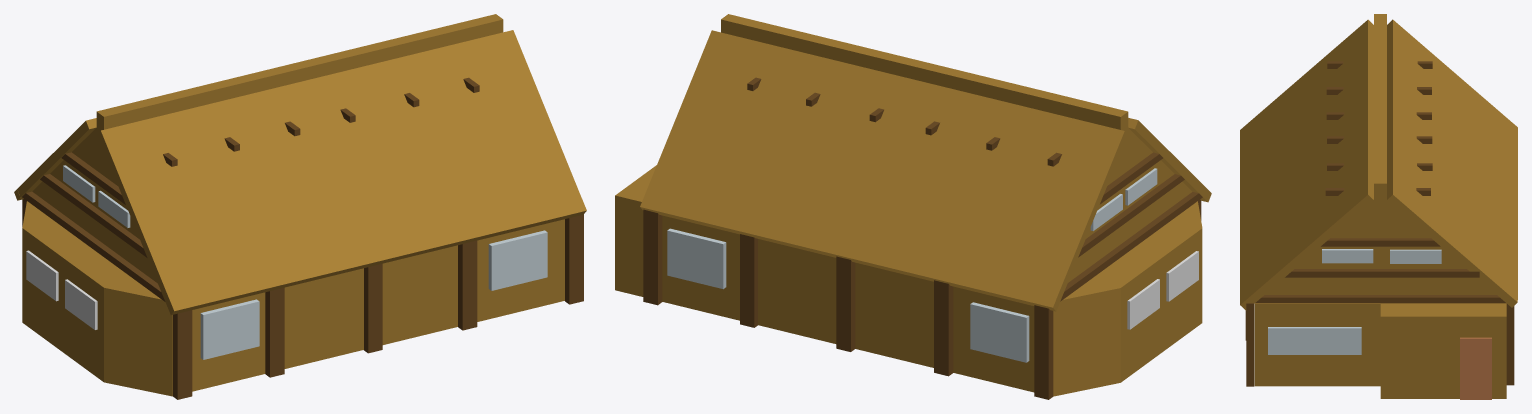
File: casa1.fbx
3 renders of one model, left to right at view 1: azimuth 30°, elevation 25°; view 2: azimuth 150°, elevation 25°; view 3: azimuth 270°, elevation 25°, orthographic. The views are drawn at different scales.
Parts seen in each view (by area): view 1: Cube, Cube.010, Cube.009, pilar1, Pilar3.003, Pilar3.001, Pilar3, Pilar3.004, Pilar3.002, pilar1.005, Cube.002, Cube.001 (+3 smaller); view 2: Cube, Cube.011, Cube.013, pilar1, Pilar3.008, Pilar3.005, Pilar3.007, Pilar3.009, Pilar3.006, pilar1.005, Cube.001, Cube.002 (+3 smaller); view 3: Cube, Cube.003, pilar1.001, Cube.004, pilar1.002, pilar1.003, Cube.006, Cube.005, Pilar3.004, Pilar3.005.
Part boxes in pixels (box(x1,y1,x2,y2)): Cube: box(14, 14, 586, 396); Cube.010: box(488, 230, 547, 290); Cube.009: box(200, 299, 259, 359); pilar1: box(22, 191, 165, 301); Pilar3.003: box(458, 240, 477, 330); Pilar3.001: box(265, 287, 284, 377); Pilar3: box(173, 310, 192, 399); Pilar3.004: box(565, 214, 583, 304); Pilar3.002: box(364, 263, 382, 353); pilar1.005: box(40, 174, 147, 257); Cube.002: box(65, 279, 97, 329); Cube.001: box(26, 250, 58, 301); Cube: box(615, 14, 1211, 396); Cube.011: box(667, 228, 726, 289); Cube.013: box(970, 302, 1029, 362); pilar1: box(1060, 192, 1202, 301); Pilar3.008: box(934, 280, 953, 376); Pilar3.005: box(643, 209, 662, 305); Pilar3.007: box(836, 256, 855, 351); Pilar3.009: box(1034, 305, 1053, 399); Pilar3.006: box(740, 234, 757, 327); pilar1.005: box(1078, 174, 1184, 257); Cube.001: box(1127, 279, 1159, 329); Cube.002: box(1166, 251, 1198, 301); Cube: box(1240, 14, 1517, 398); Cube.003: box(1268, 327, 1361, 354); pilar1.001: box(1255, 295, 1506, 303); Cube.004: box(1460, 337, 1491, 399); pilar1.002: box(1285, 269, 1479, 277); pilar1.003: box(1321, 238, 1440, 246); Cube.006: box(1390, 249, 1441, 263); Cube.005: box(1322, 249, 1373, 263); Pilar3.004: box(1246, 303, 1254, 386); Pilar3.005: box(1506, 304, 1514, 385).
Bounding box in the file's own units: 1463 × 671 × 844.
